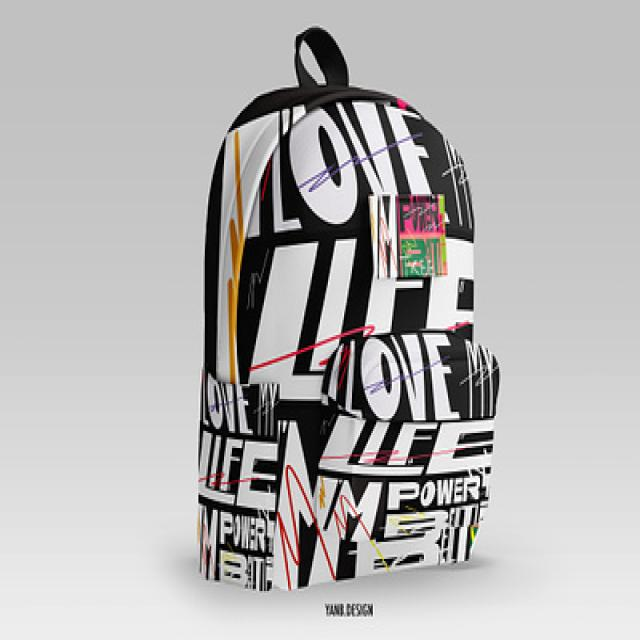backpack: (196, 27, 500, 592)
